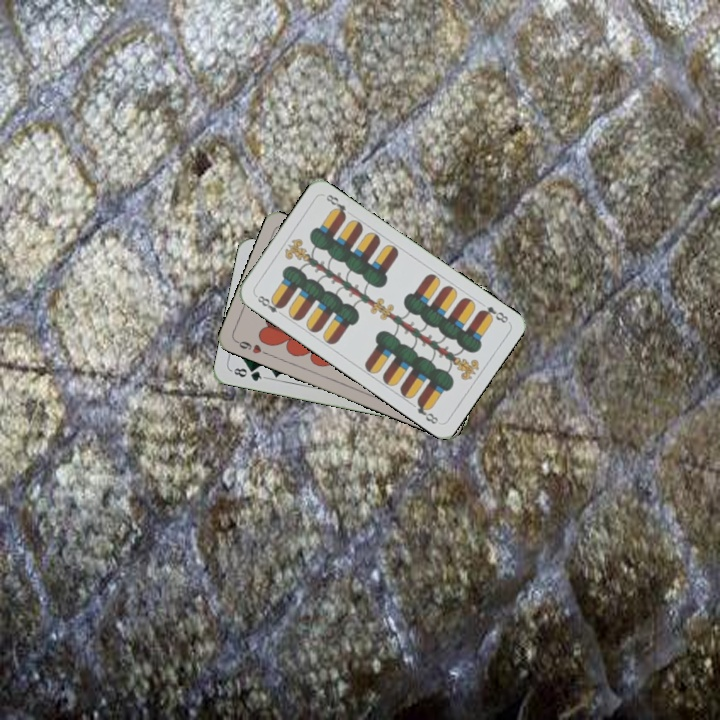E8: (251, 291, 287, 319), (475, 302, 511, 326)
G8: (228, 364, 268, 384)
H9: (232, 336, 271, 358)
